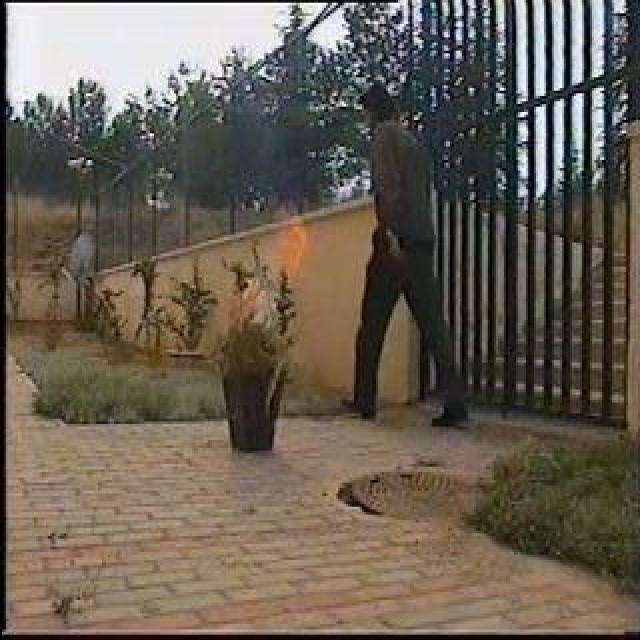fire: (267, 212, 303, 300)
